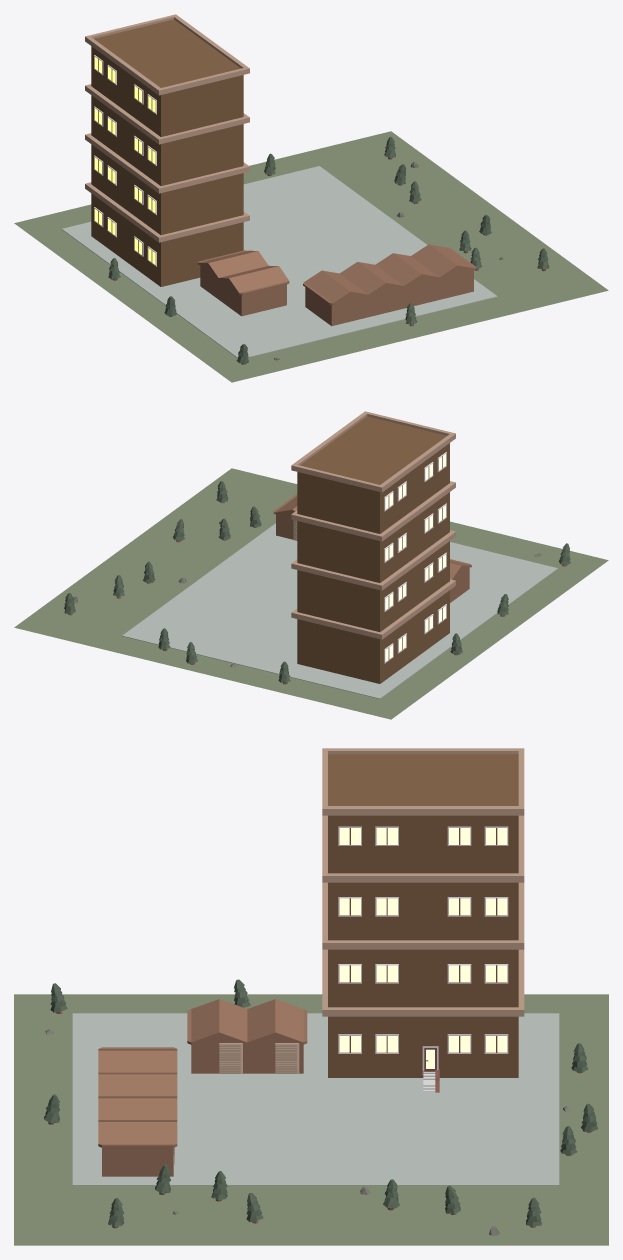
Rendered from building_fixed.glb.
3 renders of one model, top to bottom at view 1: azimuth 30°, elevation 25°; view 2: azimuth 150°, elevation 25°; view 3: azimuth 270°, elevation 25°, orthographic. The views are drawn at different scales.
Visible parts, largest first — view 1: Building, Plane.005, Plane.001, GaragesQuad, GaragesDouble, window2.002, window2.004, window2.003, window2.001; view 2: Building, Plane.005, Plane.001, GaragesQuad, GaragesDouble, window2.004, window2.003, window2.001, window2.002; view 3: Building, Plane.005, Plane.001, GaragesQuad, GaragesDouble, window2.001, window2.002, window2.003, window2.004, GDOOR6, GDOOR5.
Boxes of the visible parts, x1,y1,x2,y2 form: Building: [85, 14, 249, 286]; Plane.005: [14, 131, 608, 382]; Plane.001: [62, 166, 497, 357]; GaragesQuad: [303, 244, 476, 326]; GaragesDouble: [198, 250, 289, 316]; window2.002: [94, 106, 156, 165]; window2.004: [94, 55, 156, 114]; window2.003: [94, 207, 156, 266]; window2.001: [94, 155, 156, 214]; Building: [291, 411, 455, 683]; Plane.005: [14, 468, 608, 719]; Plane.001: [122, 523, 557, 698]; GaragesQuad: [273, 494, 297, 539]; GaragesDouble: [450, 559, 471, 602]; window2.004: [384, 452, 446, 511]; window2.003: [384, 604, 446, 663]; window2.001: [384, 552, 446, 611]; window2.002: [384, 503, 446, 562]; Building: [322, 748, 524, 1077]; Plane.005: [14, 994, 608, 1245]; Plane.001: [72, 1013, 559, 1185]; GaragesQuad: [98, 1047, 177, 1176]; GaragesDouble: [187, 999, 307, 1073]; window2.001: [338, 964, 508, 983]; window2.002: [338, 897, 508, 916]; window2.003: [338, 1034, 508, 1053]; window2.004: [338, 826, 508, 845]; GDOOR6: [275, 1043, 299, 1073]; GDOOR5: [219, 1043, 242, 1073].
Bounding box in the file's own units: 120 × 61.98 × 120.
